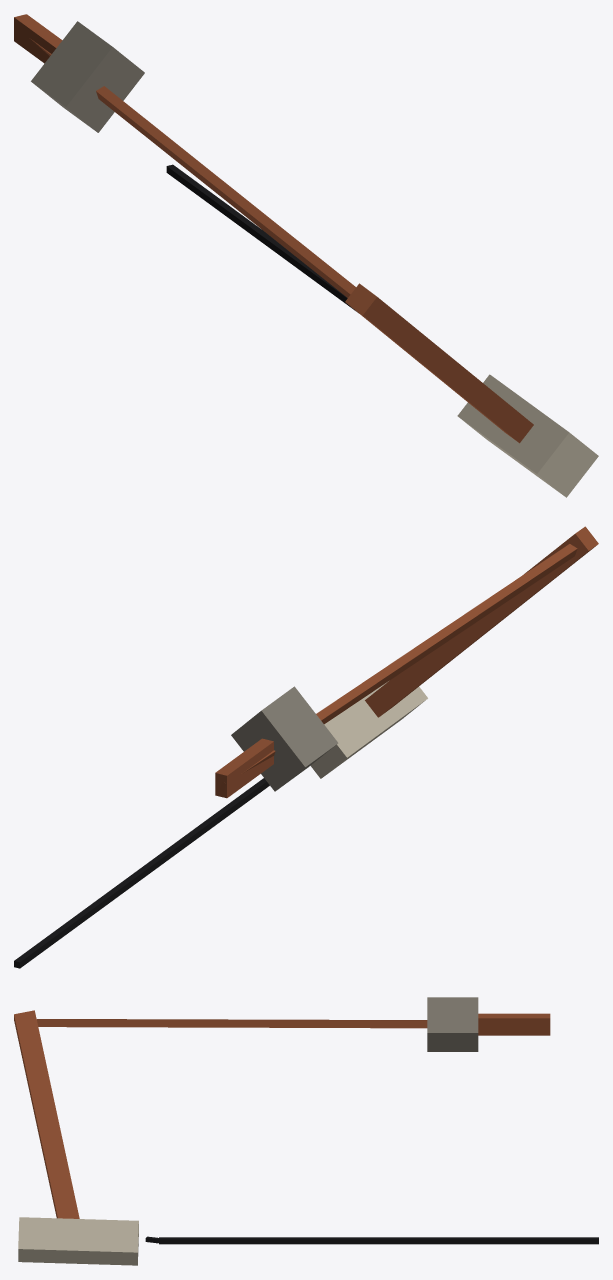
The picture shows the model from 3 angles, top to bottom: view 1: azimuth 30°, elevation 25°; view 2: azimuth 150°, elevation 25°; view 3: azimuth 270°, elevation 25°; orthographic projection. The views are drawn at different scales.
Parts seen in each view (by area): view 1: t00_g29_p9; view 2: t00_g29_p9; view 3: t00_g29_p9.
Part boxes in pixels (<box>): t00_g29_p9: <box>14,14,598,497</box>; t00_g29_p9: <box>14,526,598,968</box>; t00_g29_p9: <box>14,997,598,1265</box>.
Size of the model in its own units: 9.91 by 10.81 by 27.62.
